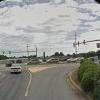Car: (7, 59, 25, 77)
